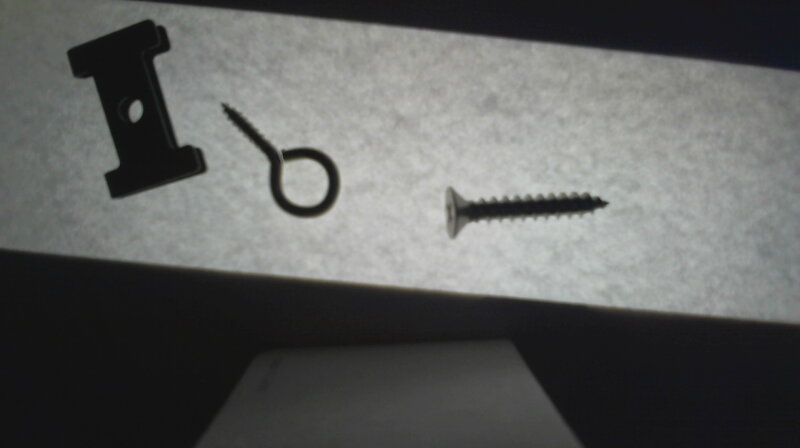O001: (216, 102, 345, 222)
O002: (65, 17, 207, 197)
S001: (440, 179, 611, 239)
